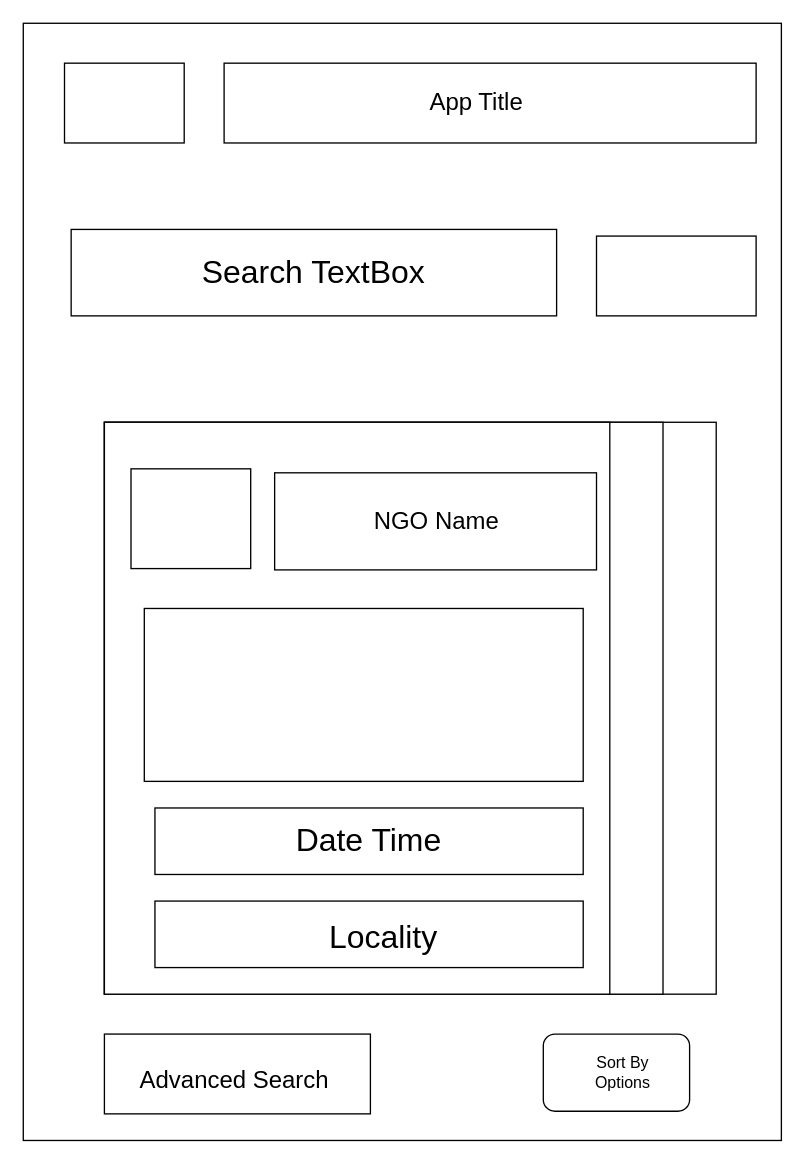
Image size: 805x1164. Some labels were removed from this diagram. Each missing label, with the box of its shape:
Event Description: (143, 607, 583, 781)
Logo: (63, 62, 184, 143)
NGO Logo: (130, 467, 251, 569)
Search By: (595, 235, 756, 316)
